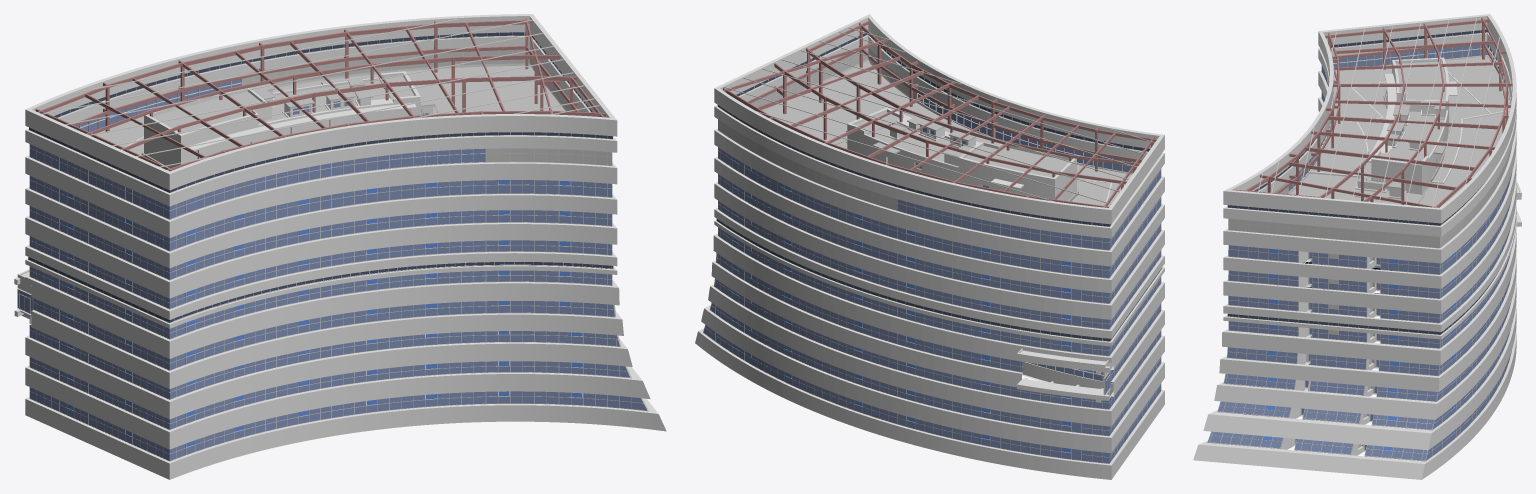
3 renders of one model, left to right at view 1: azimuth 30°, elevation 25°; view 2: azimuth 150°, elevation 25°; view 3: azimuth 270°, elevation 25°, orthographic. The views are drawn at different scales.
Parts seen in each view (by area): view 1: 옥상_외벽, 6F_외부 벽체, 1F_외부 벽체, 4F_외부 벽체, 옥상_H빔, 8F_외부 벽체, 2F_외부 벽체, 옥상_외부 창문, 6F_외부 창문, 8F_외부 창문, 1F_외부 창문, 4F_외부 창문 (+13 smaller); view 2: 옥상_외벽, 옥상_H빔, 7F_외부 벽체, 3F_외부 벽체, 1F_외부 벽체, 2F_외부 벽체, 5F_외부 벽체, 옥상_외부 창문, 4F_외부 벽체, 8F_외부 벽체, 옥상_바닥, 5F_외부 창문 (+12 smaller); view 3: 옥상_외벽, 옥상_바닥, 옥상_H빔, 1F_외부 벽체, 7F_외부 벽체, 4F_외부 벽체, 2F_외부 벽체, 5F_외부 벽체, 3F_외부 벽체, 옥상_외부 창문, 옥상_지붕, 옥상_환기구 (+13 smaller).
Part boxes in pixels (x1=…): 옥상_외벽: x1=25, y1=14, x2=617, y2=238; 6F_외부 벽체: x1=25, y1=205, x2=617, y2=328; 1F_외부 벽체: x1=25, y1=274, x2=666, y2=479; 4F_외부 벽체: x1=17, y1=194, x2=622, y2=389; 옥상_H빔: x1=35, y1=17, x2=605, y2=171; 8F_외부 벽체: x1=25, y1=63, x2=617, y2=268; 2F_외부 벽체: x1=25, y1=244, x2=642, y2=449; 옥상_외부 창문: x1=29, y1=32, x2=612, y2=219; 6F_외부 창문: x1=29, y1=218, x2=613, y2=323; 8F_외부 창문: x1=29, y1=176, x2=612, y2=251; 1F_외부 창문: x1=29, y1=301, x2=648, y2=461; 4F_외부 창문: x1=17, y1=210, x2=616, y2=370; 옥상_외벽: x1=714, y1=14, x2=1164, y2=265; 옥상_H빔: x1=722, y1=20, x2=1156, y2=207; 7F_외부 벽체: x1=714, y1=156, x2=1164, y2=319; 3F_외부 벽체: x1=708, y1=227, x2=1164, y2=426; 1F_외부 벽체: x1=695, y1=277, x2=1164, y2=479; 2F_외부 벽체: x1=702, y1=276, x2=1164, y2=453; 5F_외부 벽체: x1=714, y1=209, x2=1137, y2=372; 옥상_외부 창문: x1=717, y1=33, x2=1161, y2=250; 4F_외부 벽체: x1=712, y1=203, x2=1164, y2=396; 8F_외부 벽체: x1=714, y1=59, x2=1164, y2=292; 옥상_바닥: x1=756, y1=61, x2=1131, y2=250; 5F_외부 창문: x1=716, y1=197, x2=1161, y2=356; 옥상_외벽: x1=1223, y1=14, x2=1516, y2=261; 옥상_바닥: x1=1234, y1=56, x2=1510, y2=248; 옥상_H빔: x1=1233, y1=17, x2=1512, y2=207; 1F_외부 벽체: x1=1193, y1=266, x2=1516, y2=479; 7F_외부 벽체: x1=1223, y1=97, x2=1516, y2=313; 4F_외부 벽체: x1=1219, y1=195, x2=1521, y2=391; 2F_외부 벽체: x1=1207, y1=243, x2=1516, y2=449; 5F_외부 벽체: x1=1222, y1=181, x2=1521, y2=365; 3F_외부 벽체: x1=1220, y1=210, x2=1521, y2=419; 옥상_외부 창문: x1=1227, y1=29, x2=1512, y2=248; 옥상_지붕: x1=1377, y1=58, x2=1447, y2=188; 옥상_환기구: x1=1228, y1=147, x2=1511, y2=247.
Bounding box in the file's own units: 0.0734 × 0.0415 × 0.0482.
